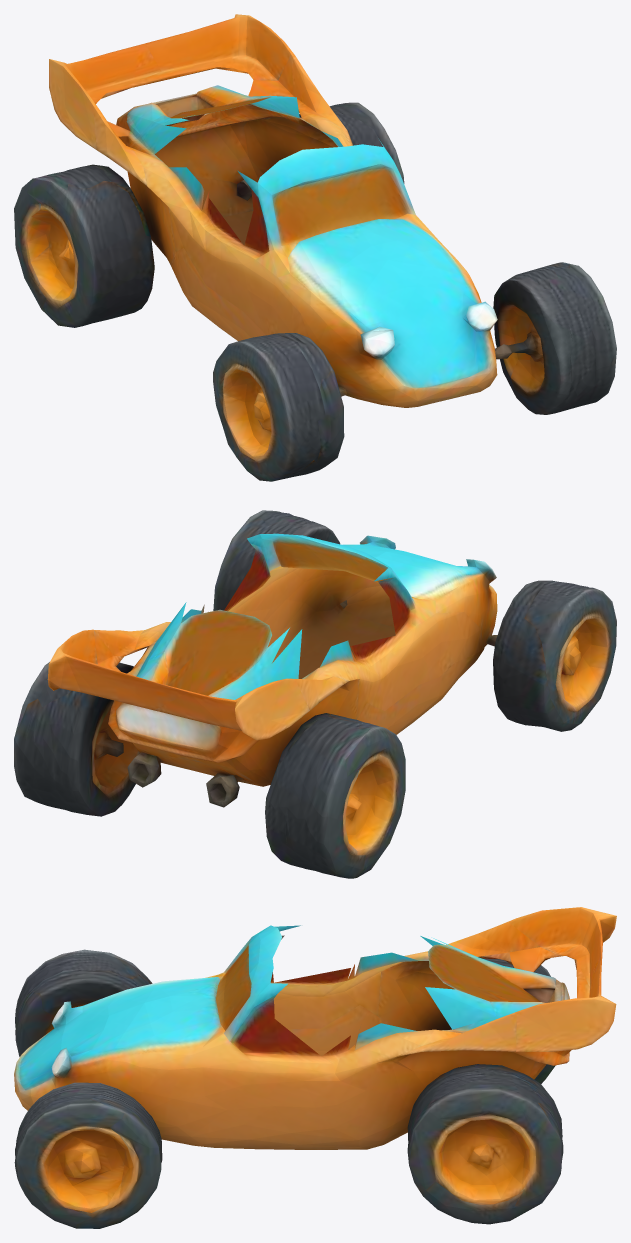
Rendered from snow-tracks.glb.
The picture shows the model from 3 angles, top to bottom: view 1: azimuth 30°, elevation 25°; view 2: azimuth 150°, elevation 25°; view 3: azimuth 270°, elevation 25°; orthographic projection. The views are drawn at different scales.
Parts seen in each view (by area): view 1: model; view 2: model; view 3: model.
Part boxes in pixels (<box>): model: <box>14,14,616,481</box>; model: <box>14,510,616,878</box>; model: <box>14,907,616,1228</box>.
Bounding box in the file's own units: 1.8 × 1.12 × 2.9.
Materials: 1 (1 with a texture image).
